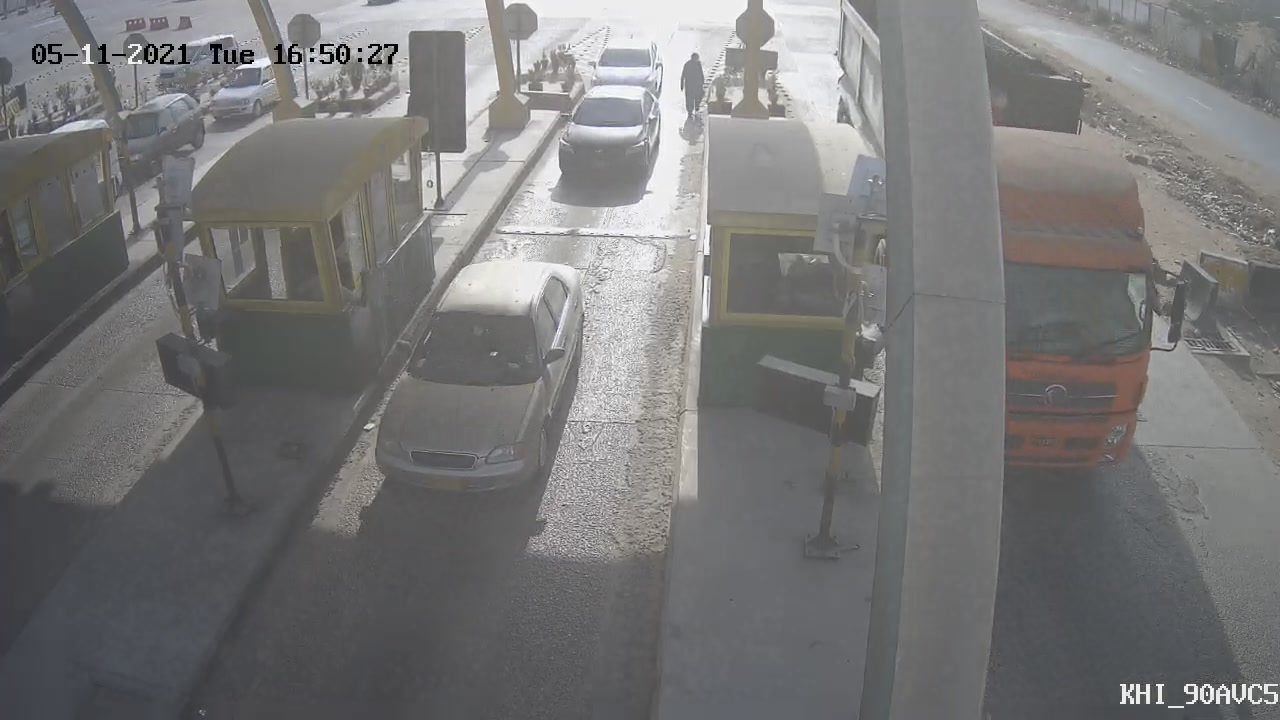F1: (353, 244, 614, 527), (538, 68, 682, 204)
